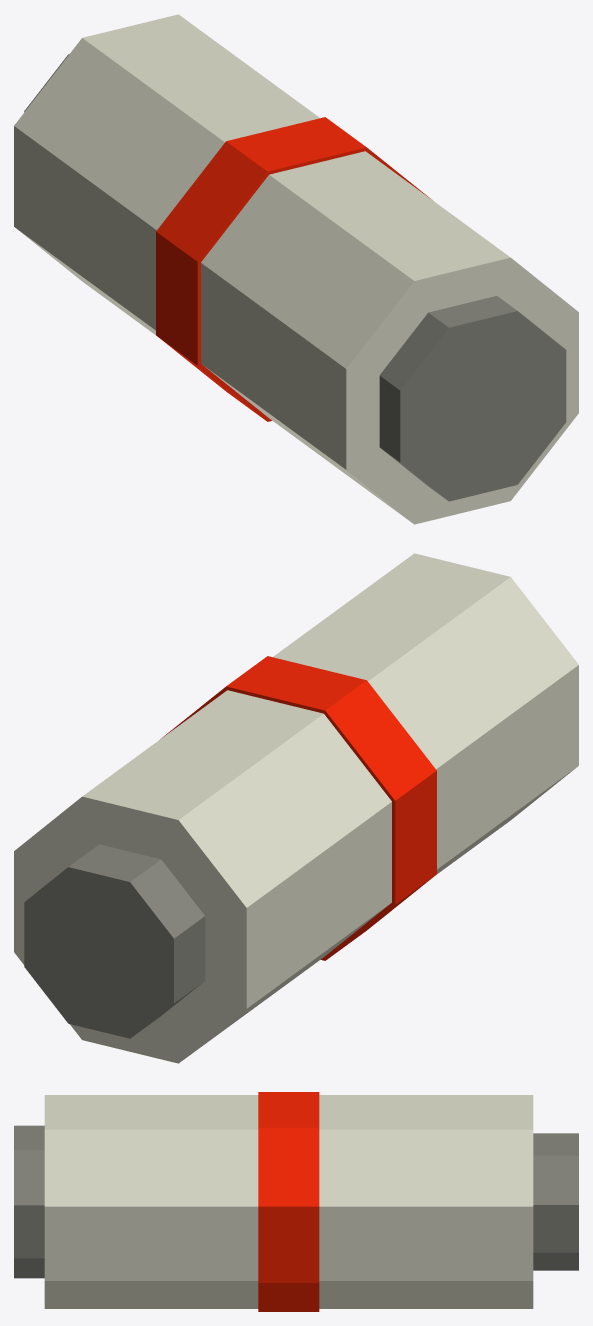
The model's file is ce_ammo_chmag_conc_a.obj.
The picture shows the model from 3 angles, top to bottom: view 1: azimuth 30°, elevation 25°; view 2: azimuth 150°, elevation 25°; view 3: azimuth 270°, elevation 25°; orthographic projection. The views are drawn at different scales.
Parts seen in each view (by area): view 1: ce_ammo_chmag_conc_a_1, ce_ammo_chmag_conc_a_3, ce_ammo_chmag_conc_a_0, ce_ammo_chmag_conc_a_2; view 2: ce_ammo_chmag_conc_a_3, ce_ammo_chmag_conc_a_1, ce_ammo_chmag_conc_a_4, ce_ammo_chmag_conc_a_2; view 3: ce_ammo_chmag_conc_a_1, ce_ammo_chmag_conc_a_3, ce_ammo_chmag_conc_a_2, ce_ammo_chmag_conc_a_4, ce_ammo_chmag_conc_a_0.
Boxes of the visible parts, left/top/right/bottom form: ce_ammo_chmag_conc_a_1: left=201, top=151, right=578, bottom=524; ce_ammo_chmag_conc_a_3: left=14, top=14, right=319, bottom=335; ce_ammo_chmag_conc_a_0: left=379, top=296, right=566, bottom=501; ce_ammo_chmag_conc_a_2: left=156, top=117, right=431, bottom=421; ce_ammo_chmag_conc_a_3: left=14, top=690, right=391, bottom=1063; ce_ammo_chmag_conc_a_1: left=273, top=553, right=578, bottom=874; ce_ammo_chmag_conc_a_4: left=24, top=844, right=205, bottom=1038; ce_ammo_chmag_conc_a_2: left=161, top=656, right=436, bottom=960; ce_ammo_chmag_conc_a_1: left=44, top=1095, right=258, bottom=1308; ce_ammo_chmag_conc_a_3: left=319, top=1095, right=533, bottom=1308; ce_ammo_chmag_conc_a_2: left=258, top=1092, right=319, bottom=1311; ce_ammo_chmag_conc_a_4: left=533, top=1133, right=578, bottom=1270; ce_ammo_chmag_conc_a_0: left=14, top=1125, right=44, bottom=1278.
Bounding box in the file's own units: 0.133 × 0.133 × 0.37.
